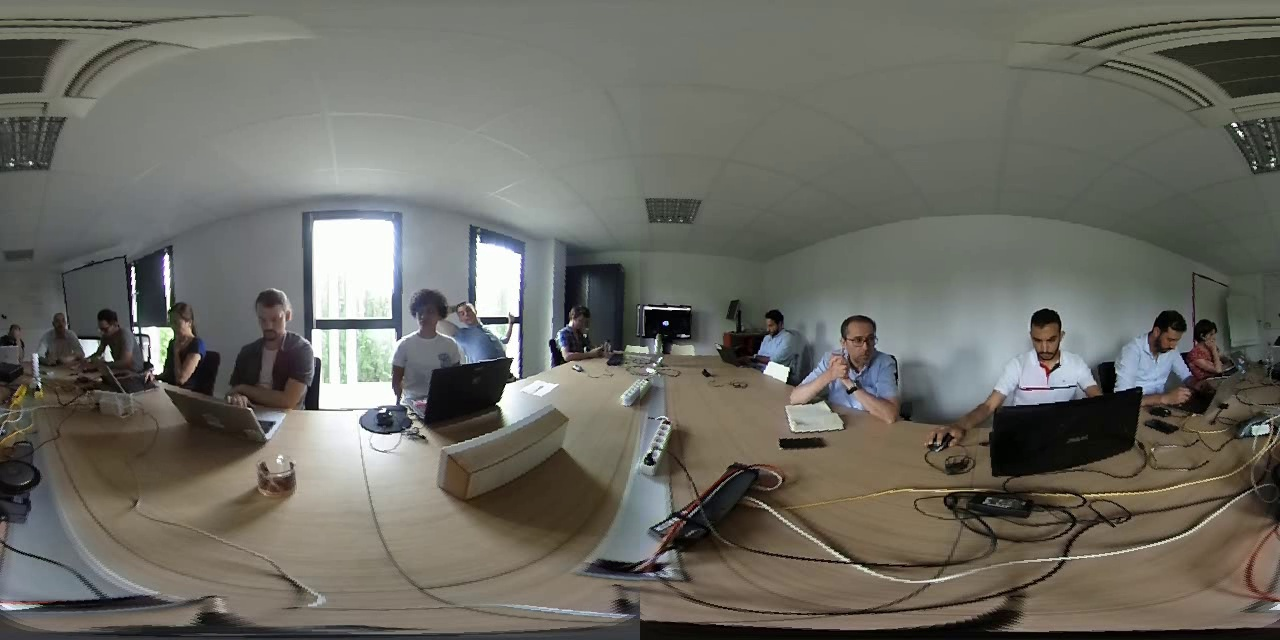person: (807, 299, 911, 428), (988, 299, 1102, 403), (231, 281, 322, 407), (1109, 298, 1190, 398), (450, 279, 526, 375), (388, 285, 456, 385), (152, 292, 218, 387), (84, 299, 146, 371), (546, 295, 606, 367), (1190, 296, 1240, 374), (752, 301, 806, 371), (32, 298, 82, 366), (2, 314, 29, 349)
